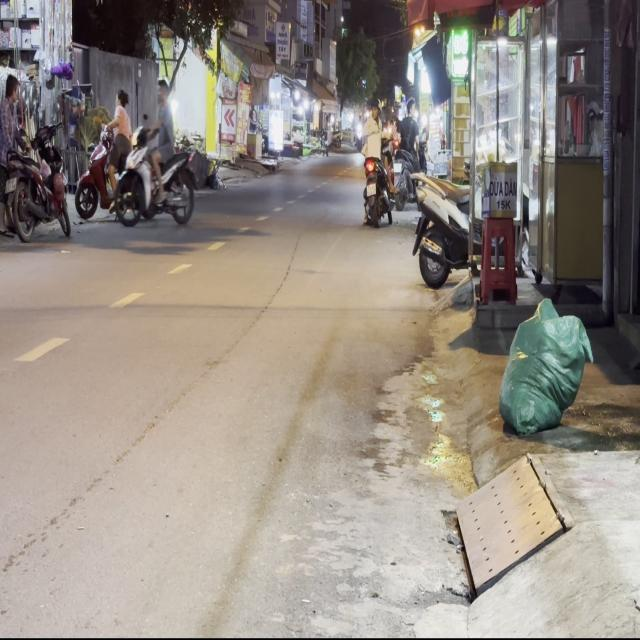licenseplate: (112, 74, 199, 230)
motorcyclist: (155, 75, 170, 103)
